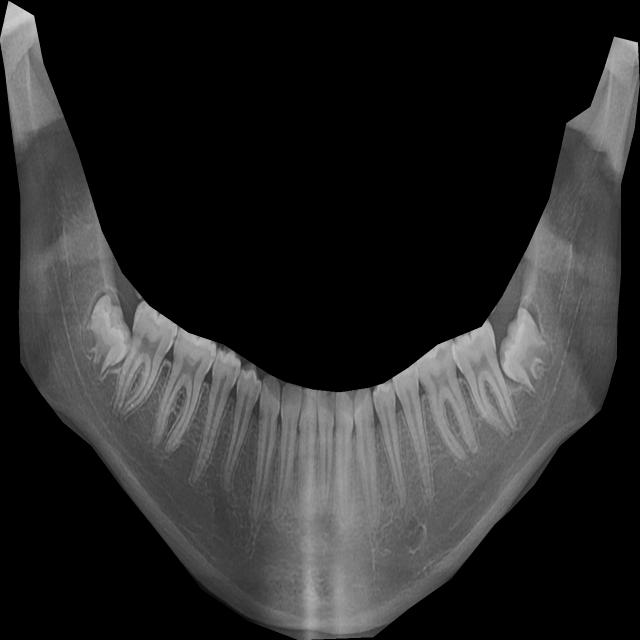mandibula: (0, 0, 640, 640)
